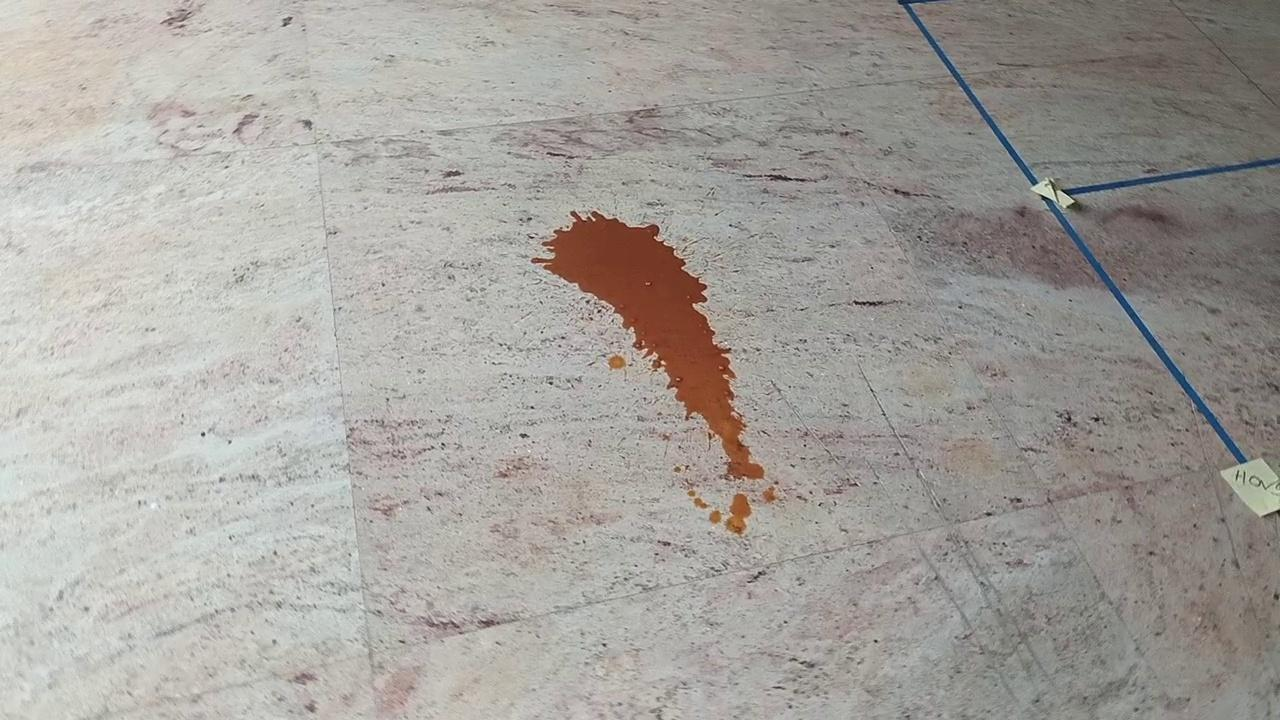dirty_floor: (529, 204, 778, 538)
